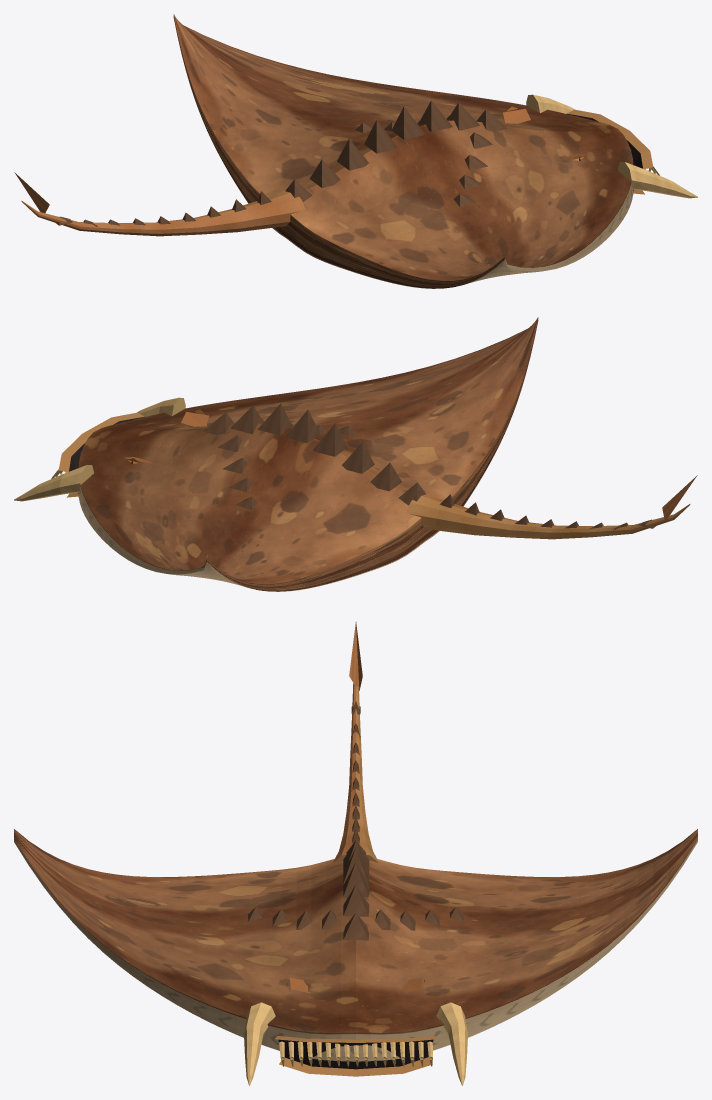
File: arraia-de-areia-v01-blockout-texturizado.glb
3 renders of one model, top to bottom at view 1: azimuth 30°, elevation 25°; view 2: azimuth 150°, elevation 25°; view 3: azimuth 270°, elevation 25°, orthographic. The views are drawn at different scales.
Visible parts, largest first — view 1: ArraiaDeAreia_v01_Static_ArtReview; view 2: ArraiaDeAreia_v01_Static_ArtReview; view 3: ArraiaDeAreia_v01_Static_ArtReview.
Part boxes in pixels (<box>): ArraiaDeAreia_v01_Static_ArtReview: <box>14,14,697,288</box>; ArraiaDeAreia_v01_Static_ArtReview: <box>14,317,697,591</box>; ArraiaDeAreia_v01_Static_ArtReview: <box>14,622,697,1085</box>.
Size of the model in its own units: 19.83 by 4.41 by 18.
1 material, 1 textured.
